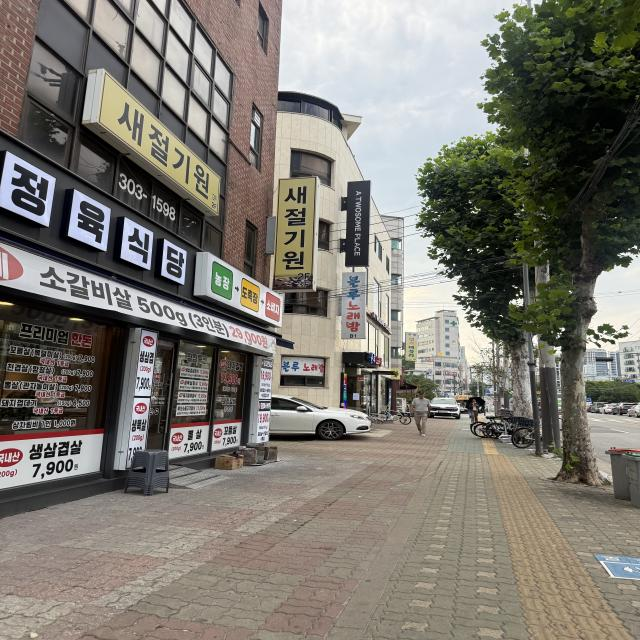car: (272, 392, 385, 456)
